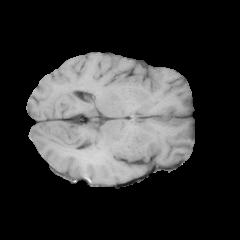glioma: (74, 138, 116, 183)
